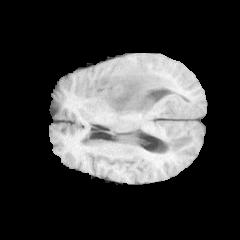glioma: (92, 57, 177, 116)
